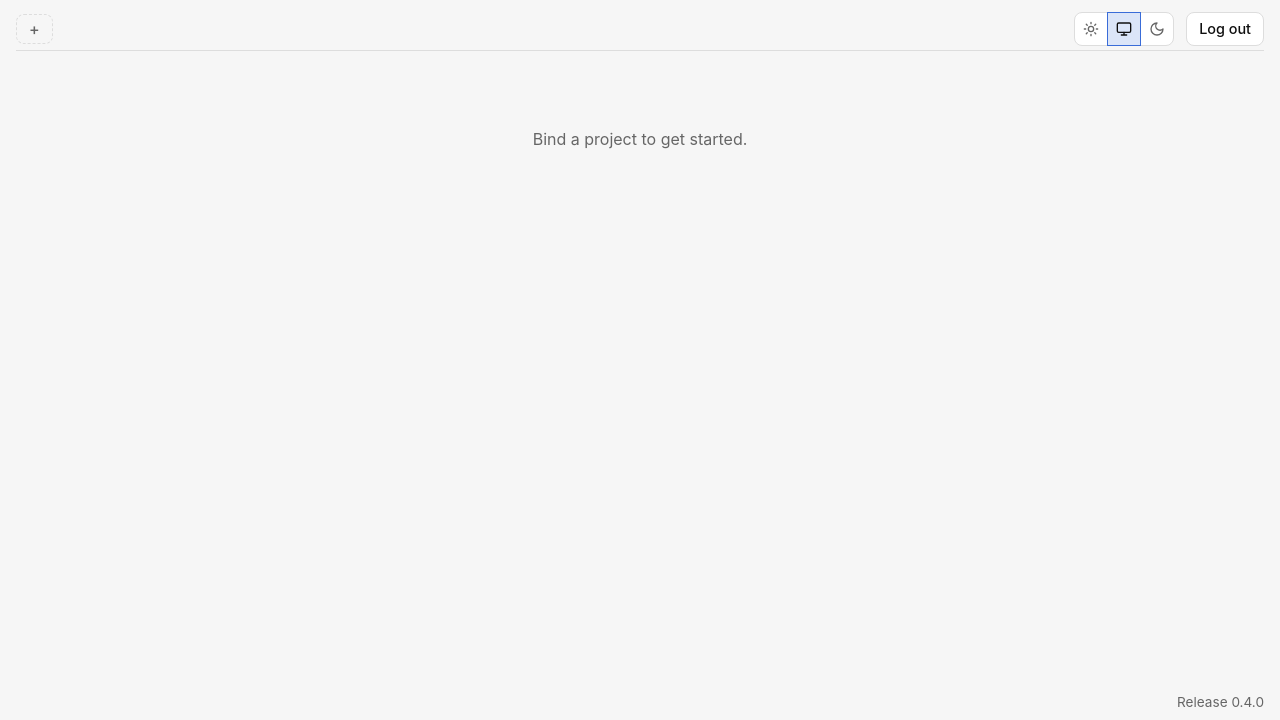
Test: App › binding a project via the popup opens its tab
Step 1. Click the button named "Bind a project" → (34, 29), box [16,14,53,44]
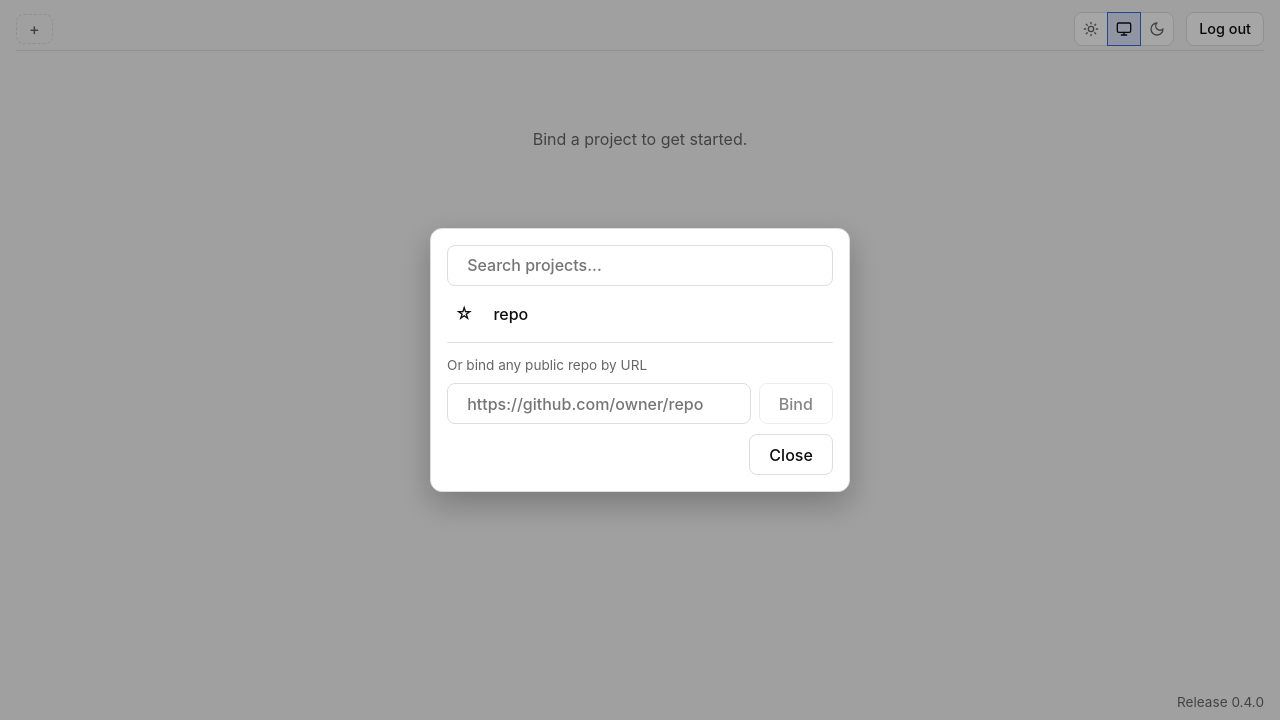
Step 2. Click the button "repo" → (511, 314), box [489,296,833,332]
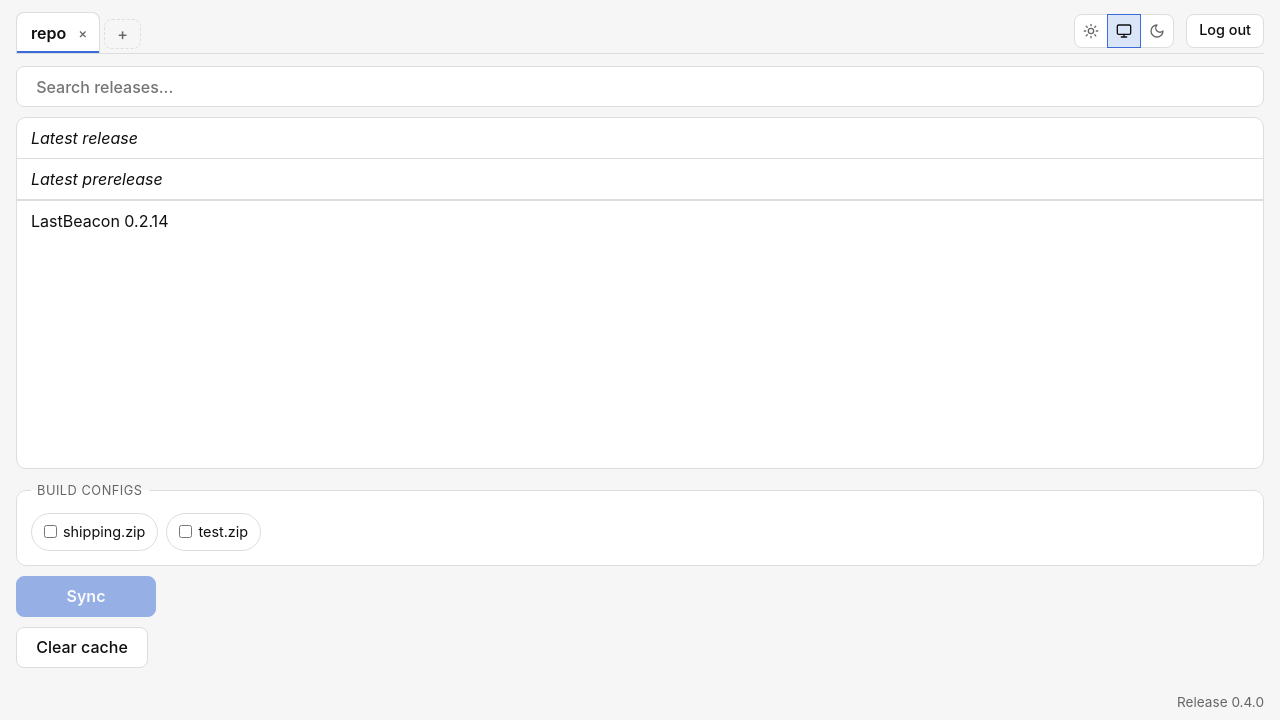
Check: the tab shows "repo", box [16,12,100,53]
